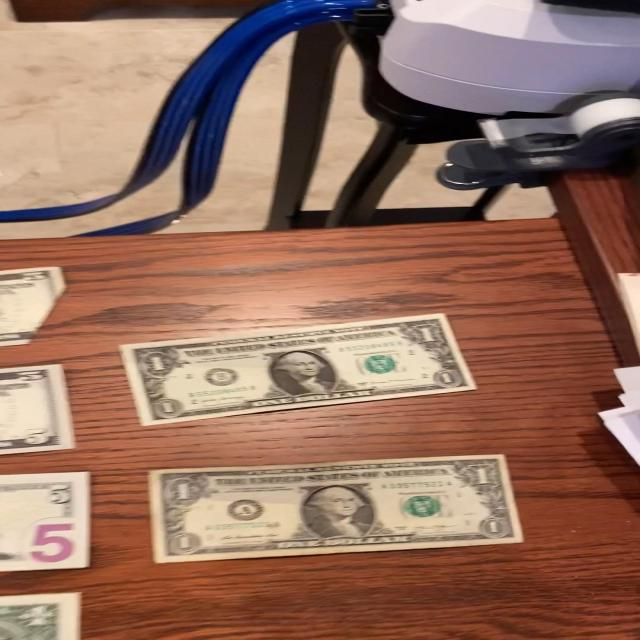1-Front: (126, 310, 483, 433), (148, 453, 523, 566)
5-Back: (0, 471, 92, 576)
5-Front: (0, 361, 76, 456), (1, 268, 69, 351)
